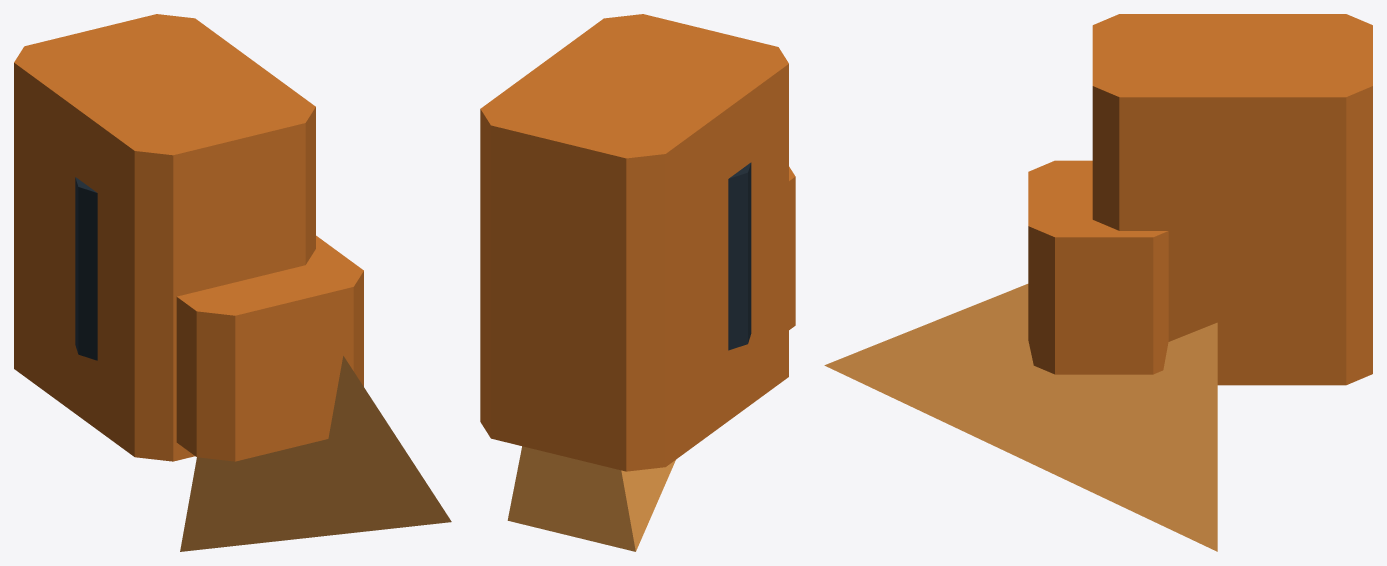
The model's file is enemy_runner_lod_forearm_r.obj.
The picture shows the model from 3 angles, left to right: view 1: azimuth 30°, elevation 25°; view 2: azimuth 150°, elevation 25°; view 3: azimuth 270°, elevation 25°; orthographic projection. The views are drawn at different scales.
Bounding box in the file's own units: 0.3316 × 0.635 × 0.725.
